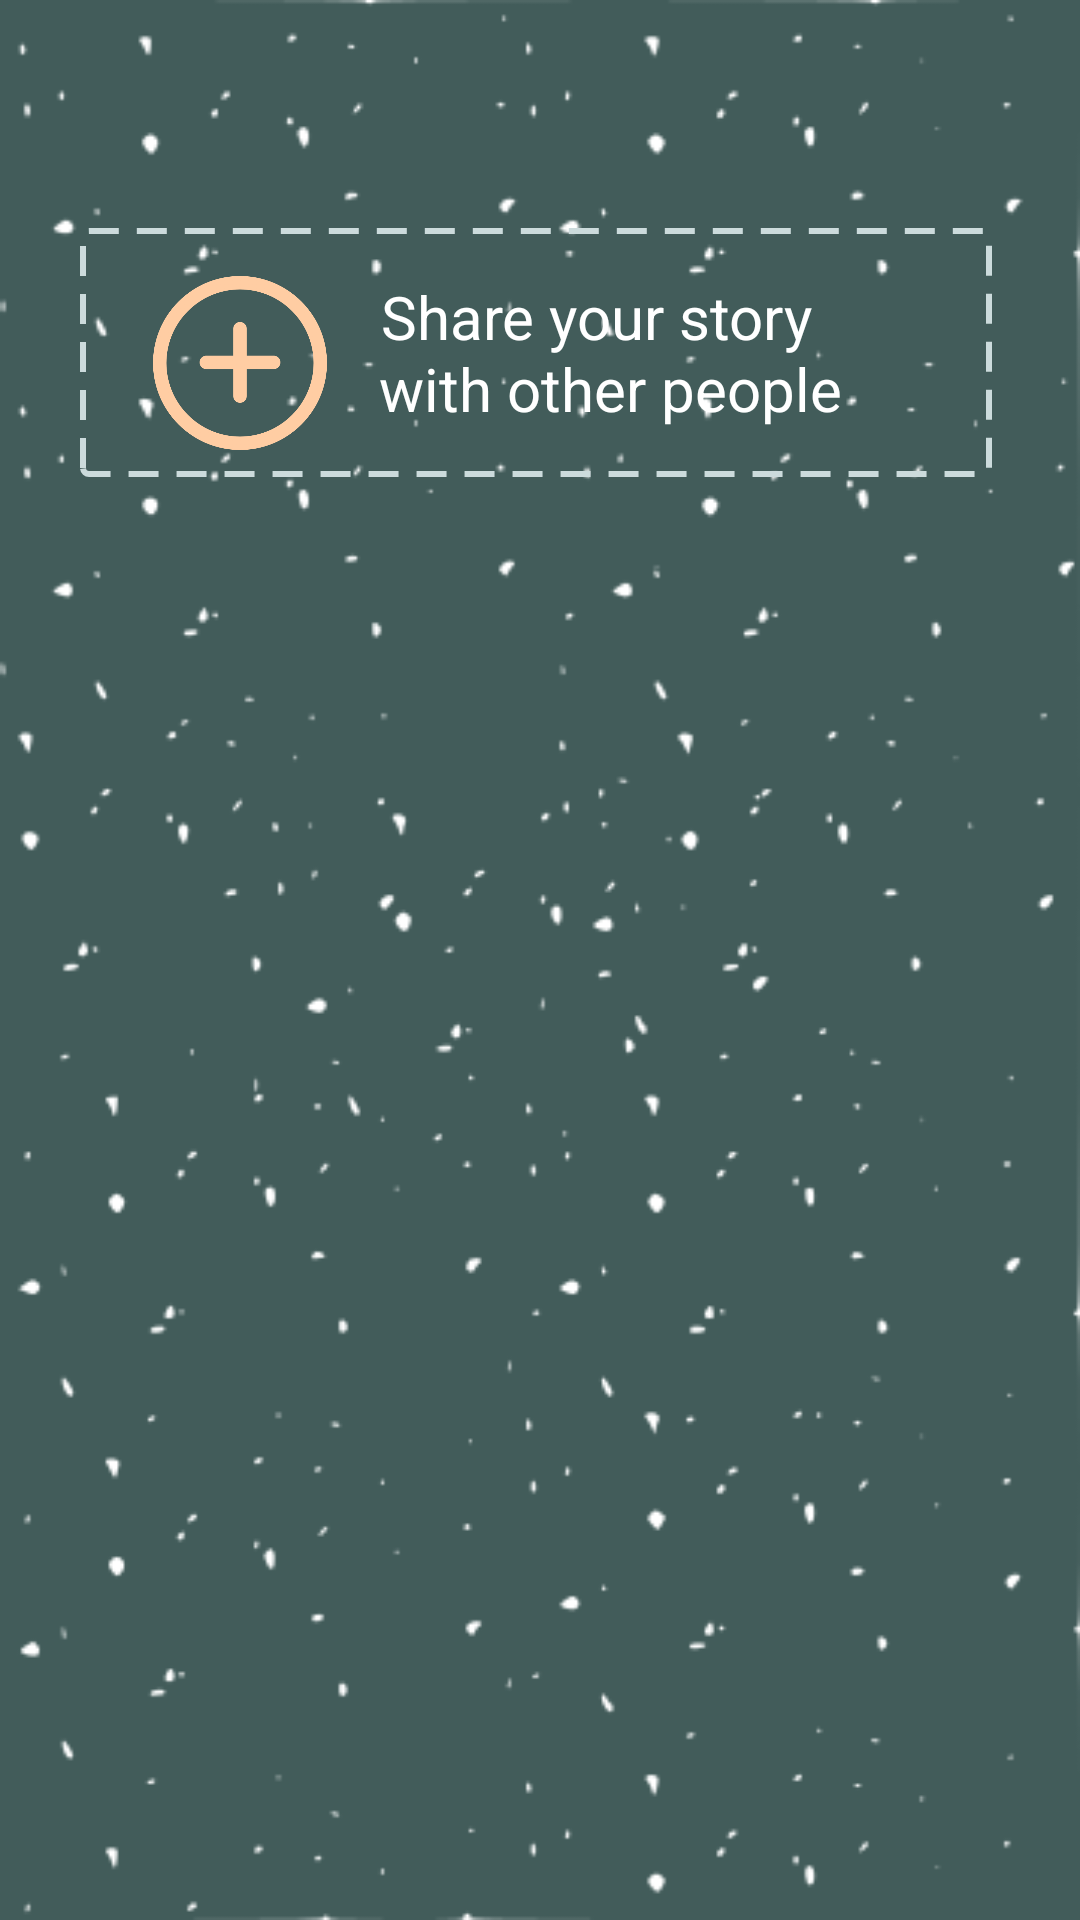

Locate icon controls on the screen. Image size 1080px x 1920px, boxes as (x1, y1, x2, y2).
add: (153, 276, 327, 450)
